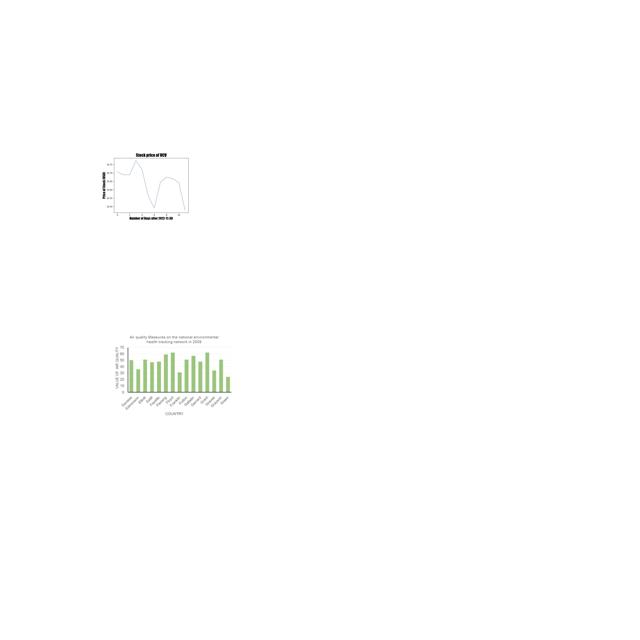Graph: (112, 332, 233, 418), (102, 149, 198, 221)
